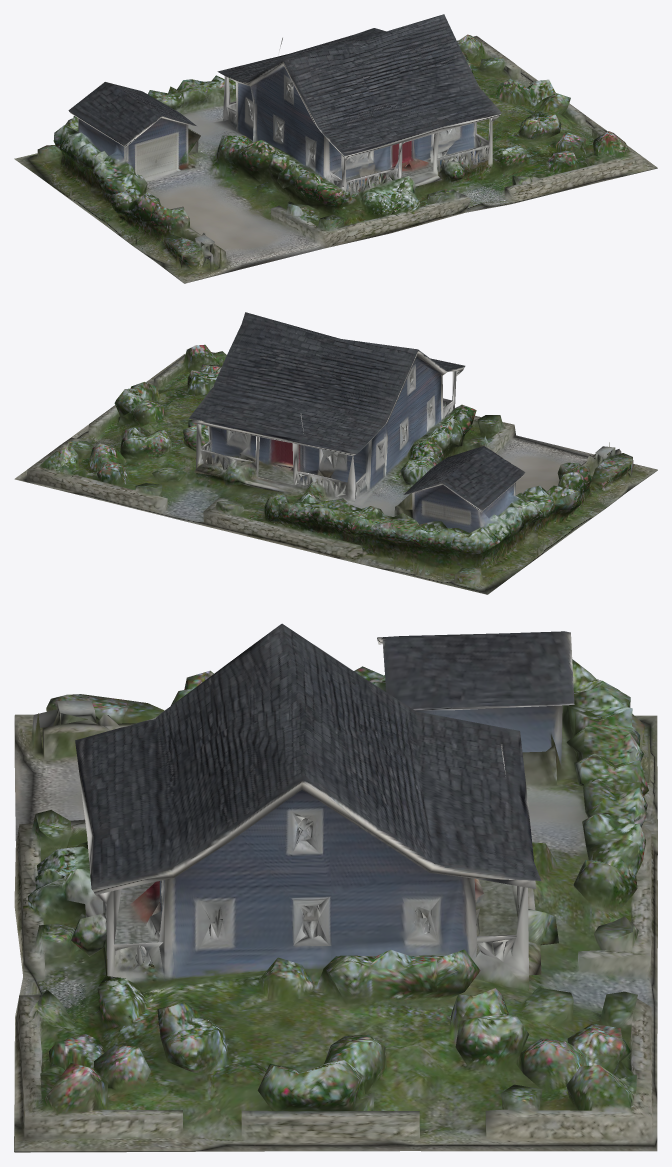
Rendered from roadsidehouse.glb.
3 views of the same model, one above another, from view 1: azimuth 30°, elevation 25°; view 2: azimuth 150°, elevation 25°; view 3: azimuth 270°, elevation 25° (orthographic). The views are drawn at different scales.
Visible parts, largest first — view 1: tripo_node_e8f93530-6d13-4a7a-bdcc-813030421c69; view 2: tripo_node_e8f93530-6d13-4a7a-bdcc-813030421c69; view 3: tripo_node_e8f93530-6d13-4a7a-bdcc-813030421c69.
Part boxes in pixels (left/top/right/bottom): tripo_node_e8f93530-6d13-4a7a-bdcc-813030421c69: left=14, top=14, right=657, bottom=283; tripo_node_e8f93530-6d13-4a7a-bdcc-813030421c69: left=14, top=312, right=657, bottom=594; tripo_node_e8f93530-6d13-4a7a-bdcc-813030421c69: left=14, top=623, right=657, bottom=1152.
Size of the model in its own units: 1 by 0.2669 by 0.624.
1 material, 1 textured.
